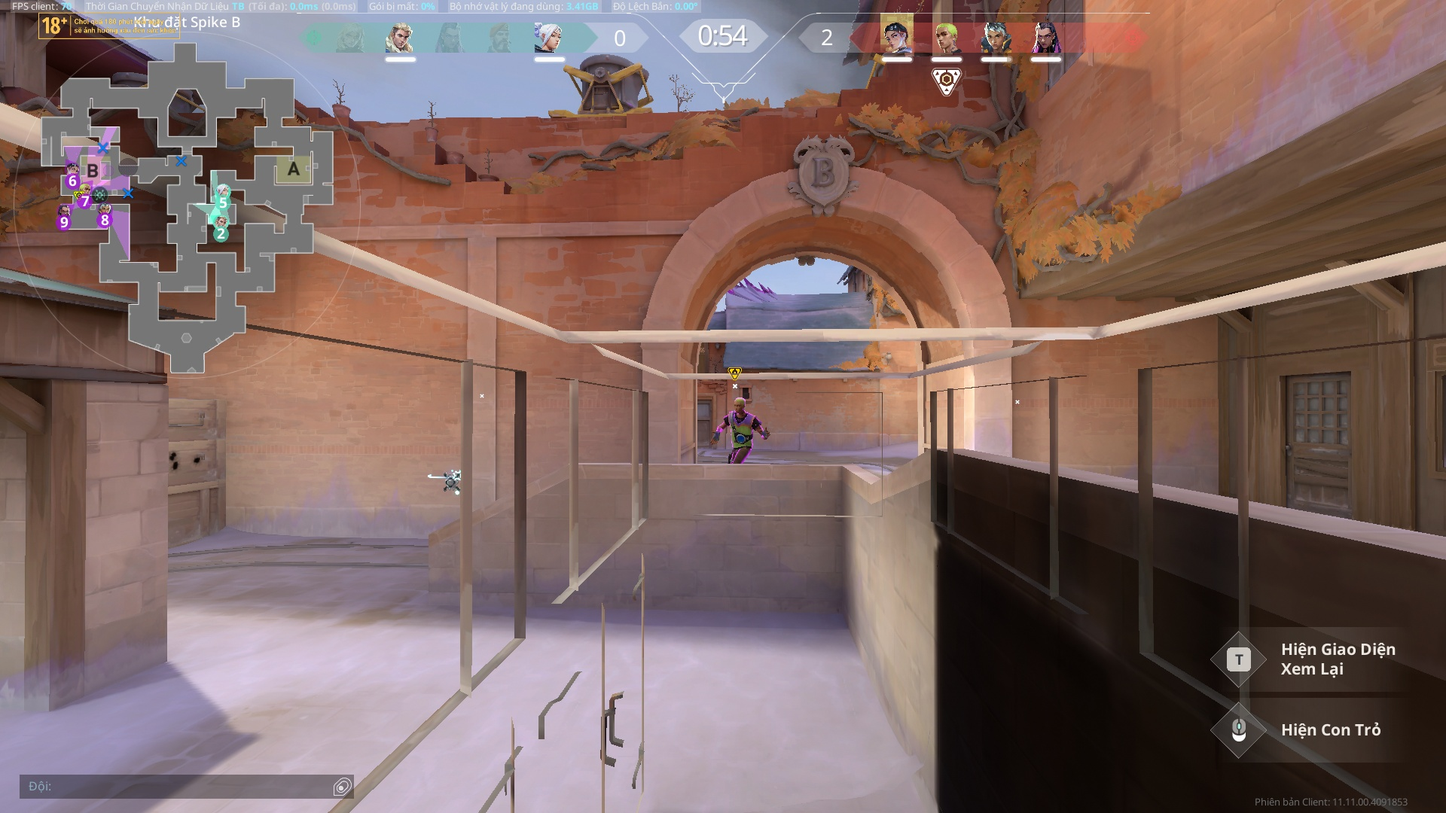body: (728, 409, 756, 445)
head: (731, 394, 745, 413)
